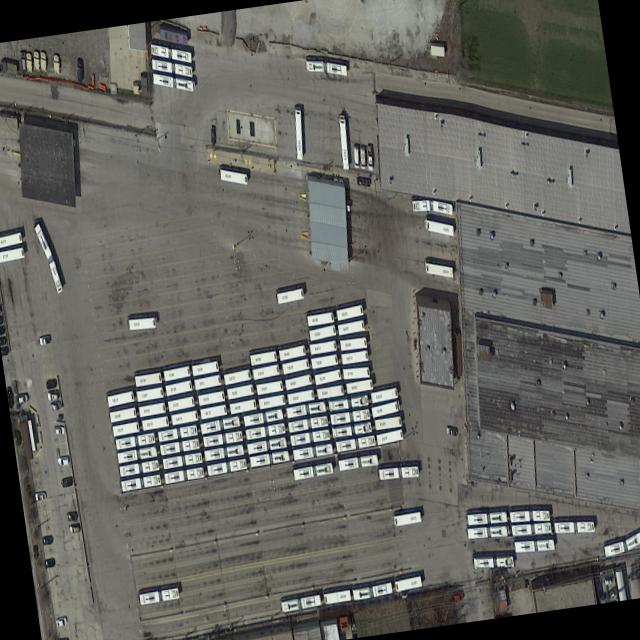large-vehicle: (33, 219, 64, 292), (602, 527, 640, 560), (352, 575, 393, 601), (336, 448, 379, 472), (280, 588, 321, 613), (206, 453, 248, 477), (333, 430, 376, 453), (156, 420, 199, 443), (292, 458, 334, 481), (163, 462, 205, 485), (138, 583, 180, 606), (199, 413, 242, 435), (249, 446, 290, 469), (287, 412, 329, 434), (246, 433, 288, 455), (305, 55, 347, 77), (152, 69, 194, 91), (114, 429, 157, 450), (412, 195, 453, 217), (289, 425, 331, 446), (285, 397, 327, 418), (244, 419, 286, 440), (242, 406, 284, 427), (202, 426, 244, 447), (161, 449, 203, 470), (159, 435, 201, 456), (120, 470, 162, 491), (151, 55, 192, 76), (291, 440, 334, 460), (377, 460, 420, 480), (203, 441, 245, 461), (513, 534, 555, 554), (466, 506, 508, 526), (330, 418, 372, 438), (327, 391, 369, 411), (150, 43, 192, 63), (118, 457, 160, 477), (116, 443, 158, 463), (472, 550, 514, 569), (466, 521, 509, 539), (328, 407, 371, 425), (510, 520, 552, 538), (509, 505, 550, 522), (552, 517, 595, 533), (393, 505, 422, 528), (248, 345, 278, 367), (276, 283, 305, 305), (106, 385, 135, 407), (280, 354, 310, 375), (370, 397, 400, 418), (334, 300, 365, 320), (339, 113, 350, 169), (222, 364, 251, 385), (193, 370, 222, 391), (425, 215, 454, 236), (162, 361, 191, 382), (283, 370, 313, 390), (277, 340, 307, 360), (255, 376, 285, 396), (394, 570, 422, 591), (323, 584, 351, 605), (308, 321, 337, 341), (313, 365, 342, 385), (164, 375, 193, 395), (135, 382, 164, 402), (219, 165, 248, 185), (251, 360, 281, 379), (225, 380, 255, 399), (167, 391, 195, 411), (127, 312, 158, 330), (199, 401, 228, 420), (309, 337, 338, 356), (306, 308, 335, 327), (286, 386, 315, 405), (228, 395, 257, 414), (375, 426, 404, 445), (337, 316, 366, 335), (369, 384, 398, 403), (197, 386, 226, 405), (191, 356, 220, 375), (141, 412, 170, 431), (111, 418, 140, 437), (108, 403, 137, 422), (294, 104, 304, 159), (309, 351, 339, 369), (425, 258, 453, 277), (315, 380, 344, 398), (345, 375, 374, 393), (340, 347, 369, 365), (134, 368, 163, 386), (338, 333, 368, 350), (374, 412, 402, 430), (170, 407, 198, 425), (257, 391, 286, 408), (137, 399, 166, 416), (341, 363, 370, 379), (0, 228, 23, 248), (0, 244, 25, 262)
small-vehicle: (366, 142, 374, 169), (61, 473, 74, 487), (359, 144, 366, 169), (39, 333, 52, 346), (353, 143, 360, 167), (55, 614, 67, 627), (50, 399, 62, 412), (45, 377, 57, 390), (17, 391, 29, 404), (42, 532, 53, 546), (44, 556, 56, 568), (57, 454, 70, 465), (34, 490, 47, 501), (211, 121, 217, 143), (66, 510, 78, 521), (47, 389, 59, 400), (69, 522, 81, 532), (447, 425, 458, 435), (54, 424, 65, 434), (77, 61, 82, 82), (57, 635, 69, 640), (604, 577, 611, 585)
